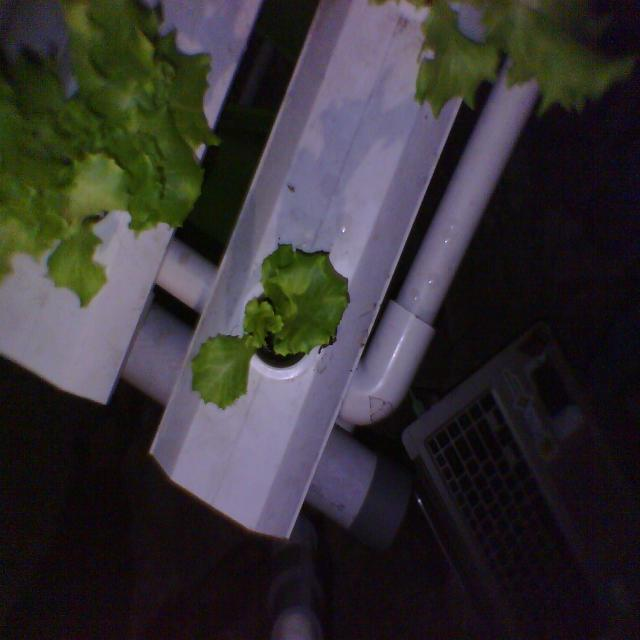FN: (0, 0, 226, 321), (180, 232, 357, 417)
